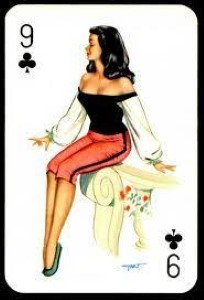NineOfClubs: (3, 2, 199, 293)
